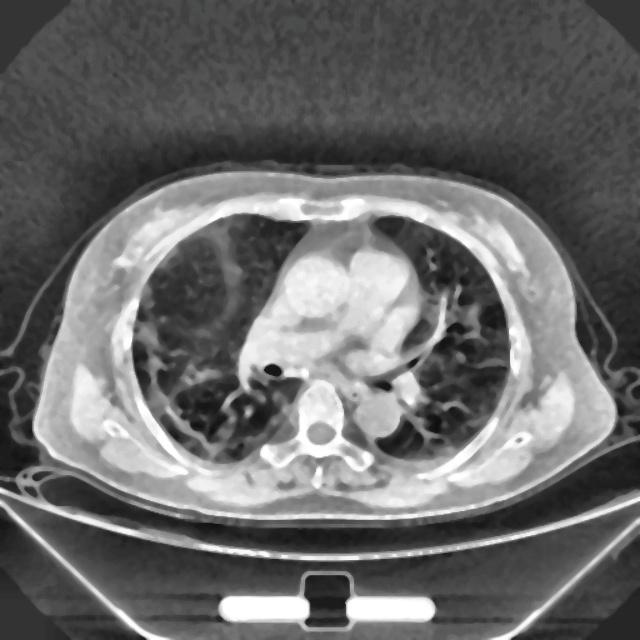covid: (28, 161, 619, 528)
